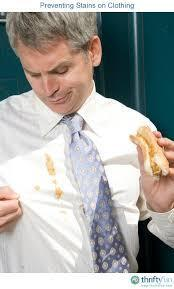lipstick: (41, 147, 59, 181), (51, 187, 61, 200), (35, 184, 40, 190)
